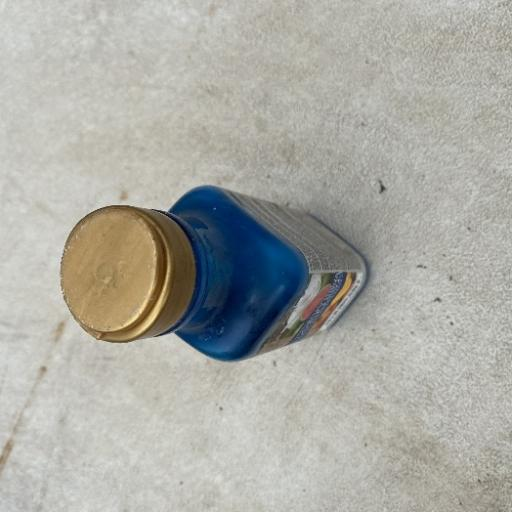Plastic: (57, 182, 369, 364)
